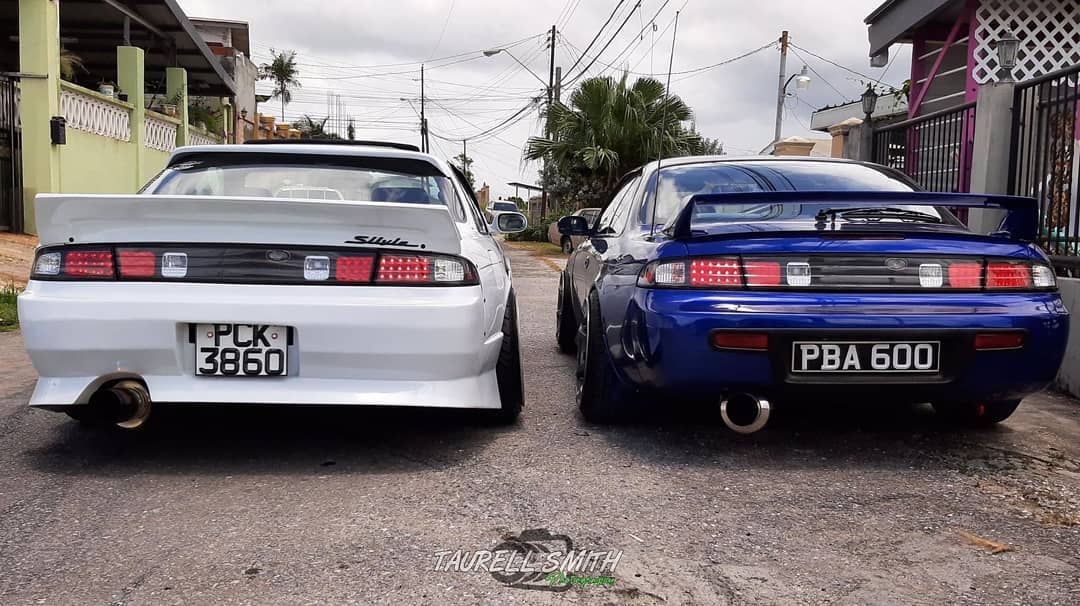License-Plate: (196, 323, 286, 375), (793, 342, 938, 370)
